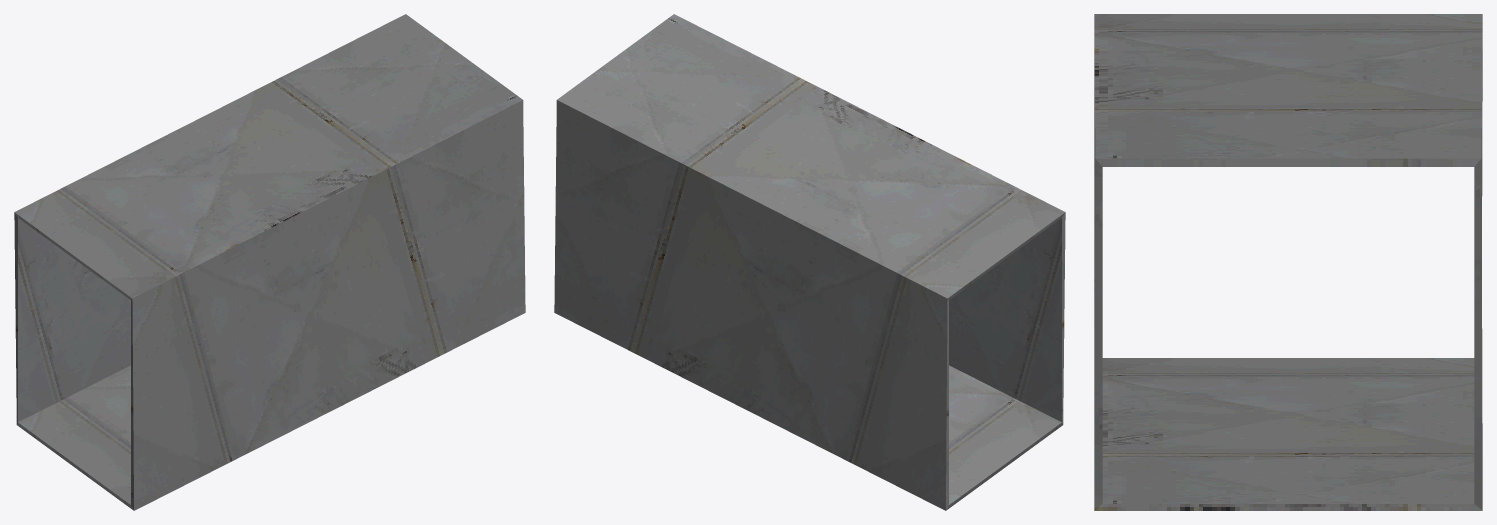
The model's file is duct_slanted.glb.
The picture shows the model from 3 angles, left to right: view 1: azimuth 30°, elevation 25°; view 2: azimuth 150°, elevation 25°; view 3: azimuth 270°, elevation 25°; orthographic projection. The views are drawn at different scales.
Visible parts, largest first — view 1: duct_slanted; view 2: duct_slanted; view 3: duct_slanted.
Boxes of the visible parts, x1=… form: duct_slanted: x1=14, y1=14, x2=525, y2=510; duct_slanted: x1=554, y1=14, x2=1065, y2=510; duct_slanted: x1=1094, y1=14, x2=1482, y2=510.
Size of the model in its own units: 2.01 by 1.54 by 1.05.
1 material, 1 textured.
